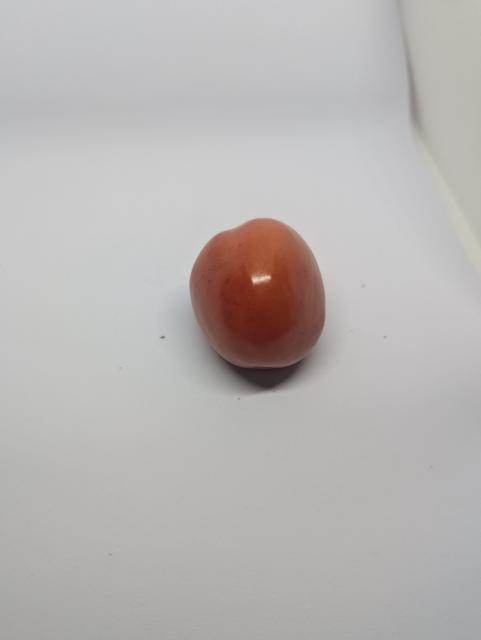red: (186, 214, 337, 383)
